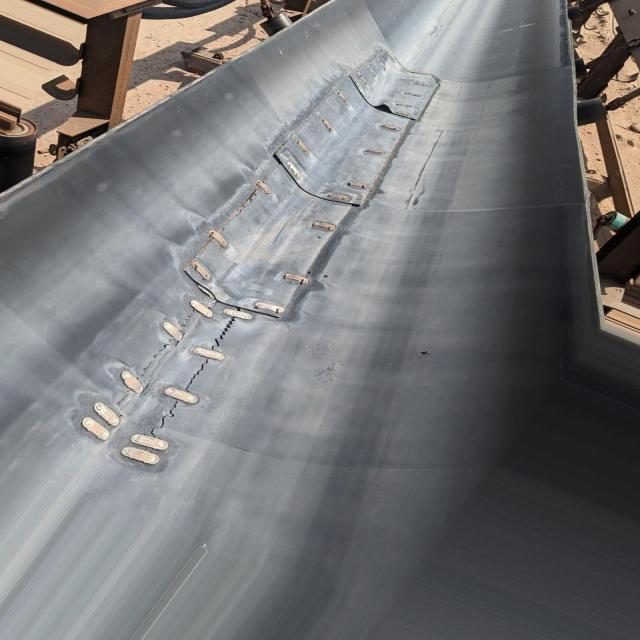patch work: (76, 50, 444, 477)
